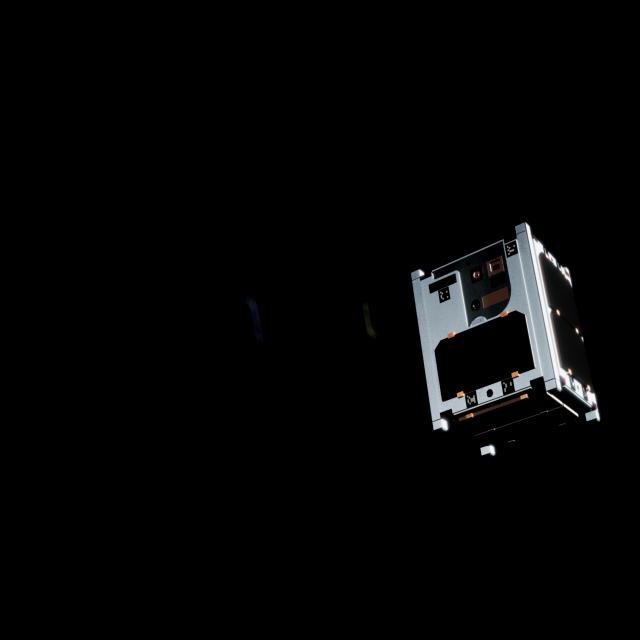medium_debris: (404, 220, 608, 470)
